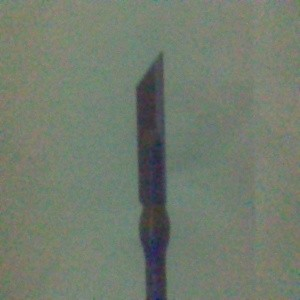cutter: (135, 50, 172, 300)
